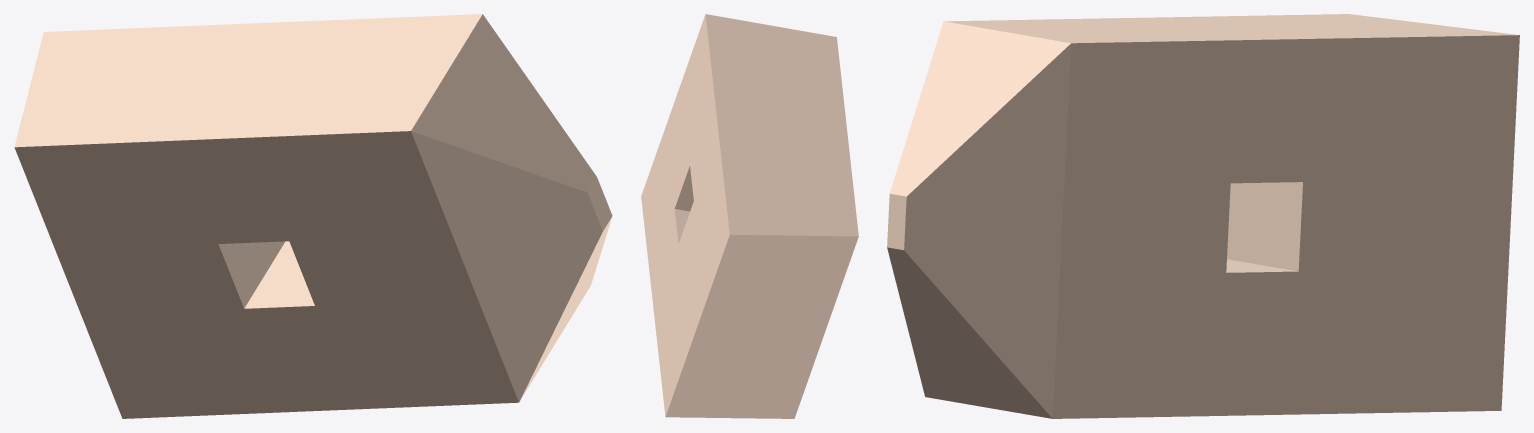
Rendered from Marteau - masselote_Quarts_instance_1.obj.
3 views of the same model, side by side, from view 1: azimuth 30°, elevation 25°; view 2: azimuth 150°, elevation 25°; view 3: azimuth 270°, elevation 25° (orthographic). The views are drawn at different scales.
Visible parts, largest first — view 1: Face_7, Face_5, Face_3, Face_9, Face_14, Face_13, Face_10, Face_2; view 2: Face_5, Face_8, Face_6, Face_11, Face_14; view 3: Face_6, Face_1, Face_9, Face_5, Face_10, Face_13, Face_2.
Boxes of the visible parts, x1=… form: Face_7: x1=14, y1=131, x2=518, y2=418; Face_5: x1=14, y1=14, x2=482, y2=147; Face_3: x1=411, y1=131, x2=602, y2=402; Face_9: x1=411, y1=14, x2=596, y2=192; Face_14: x1=244, y1=241, x2=314, y2=308; Face_13: x1=218, y1=241, x2=285, y2=308; Face_10: x1=520, y1=217, x2=611, y2=400; Face_2: x1=587, y1=177, x2=612, y2=230; Face_5: x1=705, y1=14, x2=858, y2=236; Face_8: x1=665, y1=234, x2=858, y2=418; Face_6: x1=641, y1=14, x2=729, y2=416; Face_11: x1=674, y1=166, x2=693, y2=211; Face_14: x1=674, y1=209, x2=689, y2=243; Face_6: x1=1053, y1=35, x2=1519, y2=418; Face_1: x1=904, y1=43, x2=1071, y2=418; Face_9: x1=890, y1=21, x2=1070, y2=196; Face_5: x1=944, y1=14, x2=1517, y2=43; Face_10: x1=887, y1=247, x2=1052, y2=418; Face_13: x1=1227, y1=182, x2=1302, y2=271; Face_2: x1=887, y1=194, x2=906, y2=250.
Bounding box in the file's own units: 0.0158 × 0.0147 × 0.0176.
